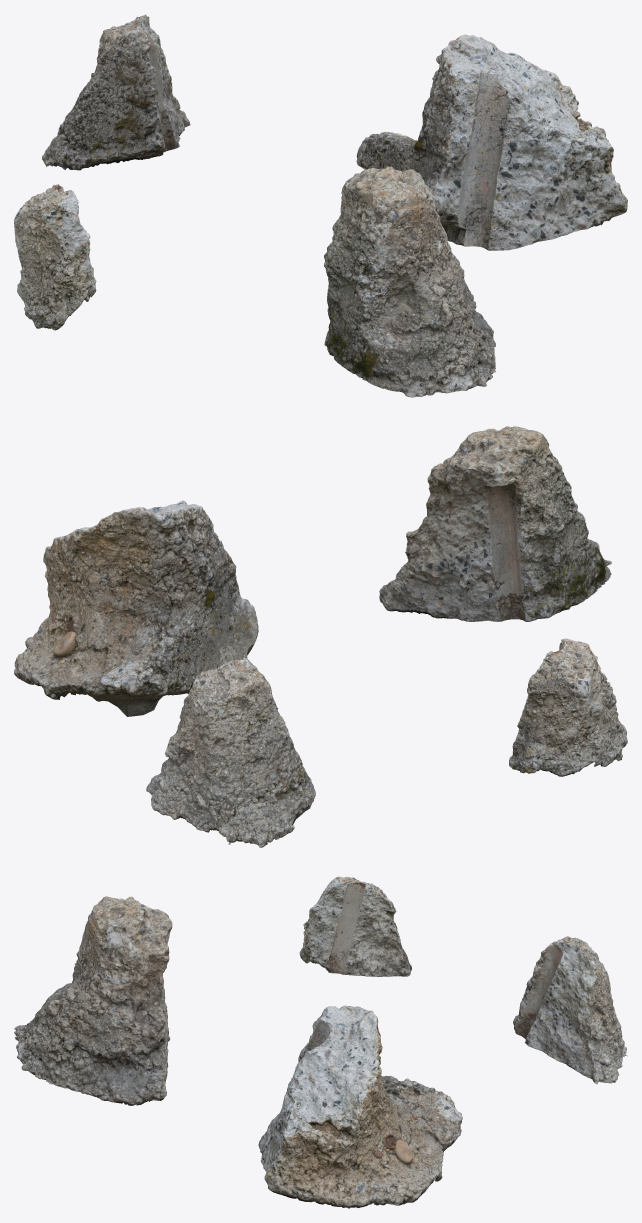
Rendered from sf-set-of-4-concrete-rubble-chunks-0d654a.glb.
The picture shows the model from 3 angles, top to bottom: view 1: azimuth 30°, elevation 25°; view 2: azimuth 150°, elevation 25°; view 3: azimuth 270°, elevation 25°; orthographic projection. The views are drawn at different scales.
Visible parts, largest first — view 1: Model.002_material0.002_0, Model.003_material0.003_0, Model_material0_0, Model.001_material0.001_0; view 2: Model.002_material0.002_0, Model.003_material0.003_0, Model_material0_0, Model.001_material0.001_0; view 3: Model.002_material0.002_0, Model.003_material0.003_0, Model_material0_0, Model.001_material0.001_0.
Boxes of the visible parts, x1,y1,x2,y2 form: Model.002_material0.002_0: (356, 34, 627, 250); Model.003_material0.003_0: (324, 166, 495, 397); Model_material0_0: (42, 14, 190, 170); Model.001_material0.001_0: (14, 184, 96, 330); Model.002_material0.002_0: (14, 500, 258, 716); Model.003_material0.003_0: (379, 426, 611, 621); Model_material0_0: (146, 657, 315, 847); Model.001_material0.001_0: (509, 638, 627, 776); Model.002_material0.002_0: (258, 1005, 462, 1208); Model.003_material0.003_0: (14, 896, 172, 1105); Model_material0_0: (513, 936, 627, 1083); Model.001_material0.001_0: (299, 876, 411, 976).
Size of the model in its own units: 1.61 by 0.5329 by 1.75.
4 materials, 4 textured.
